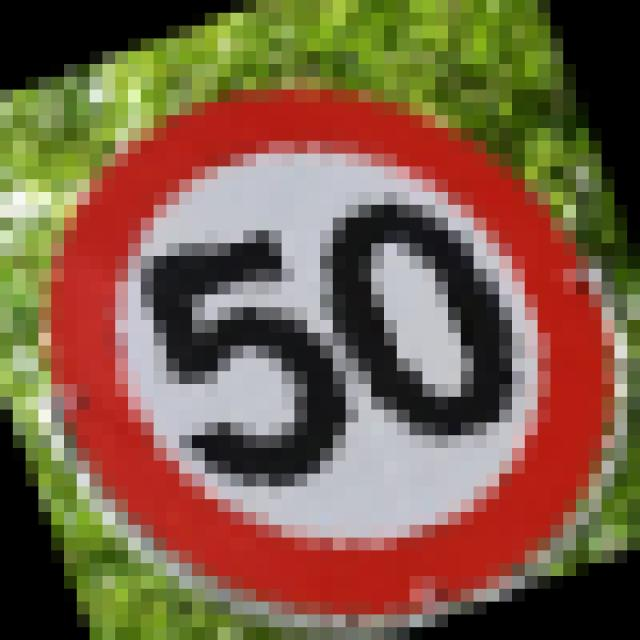Limite-50: (41, 81, 621, 628)
